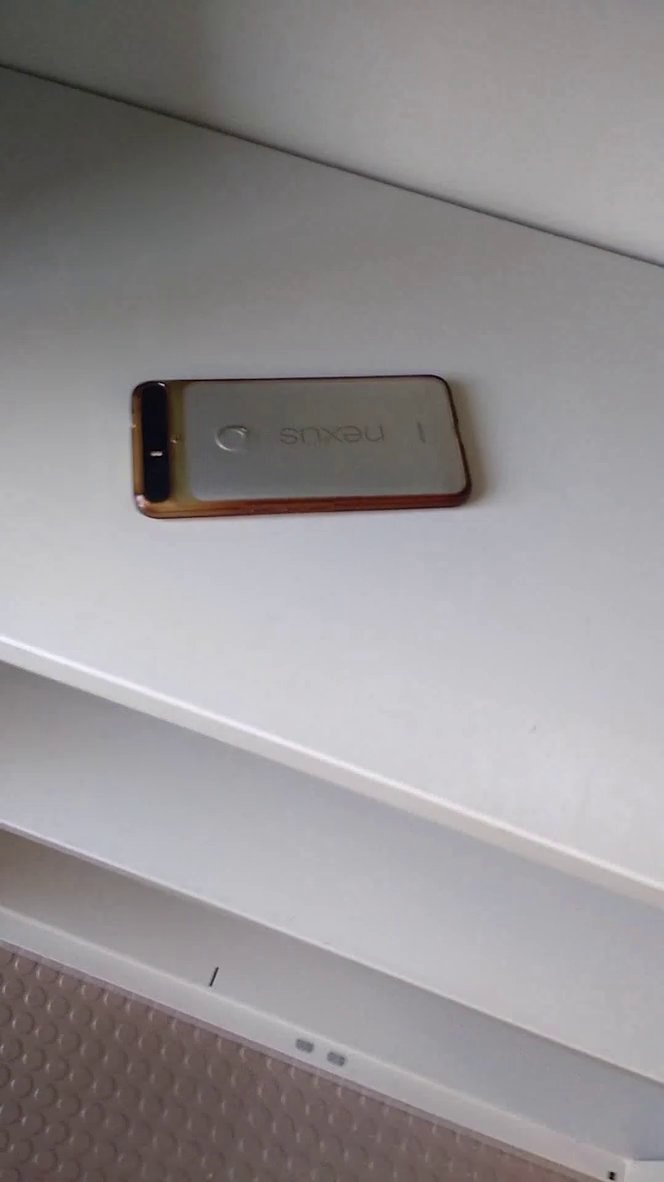phone: (120, 351, 501, 545)
